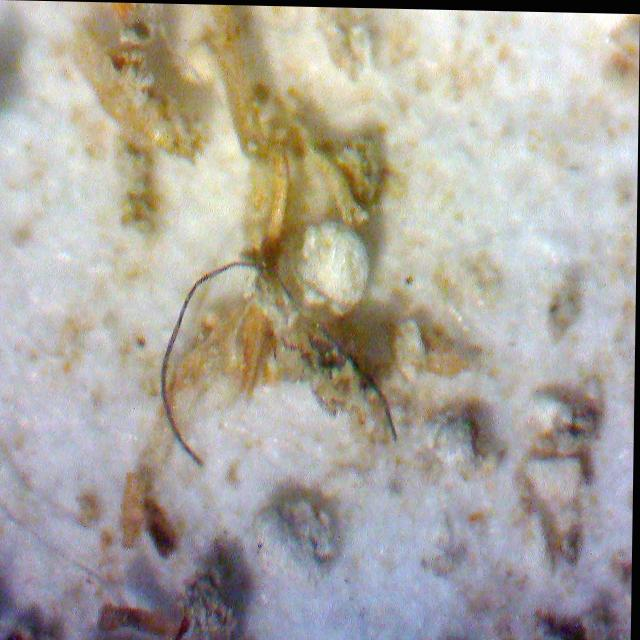microplastic: (147, 245, 401, 469)
